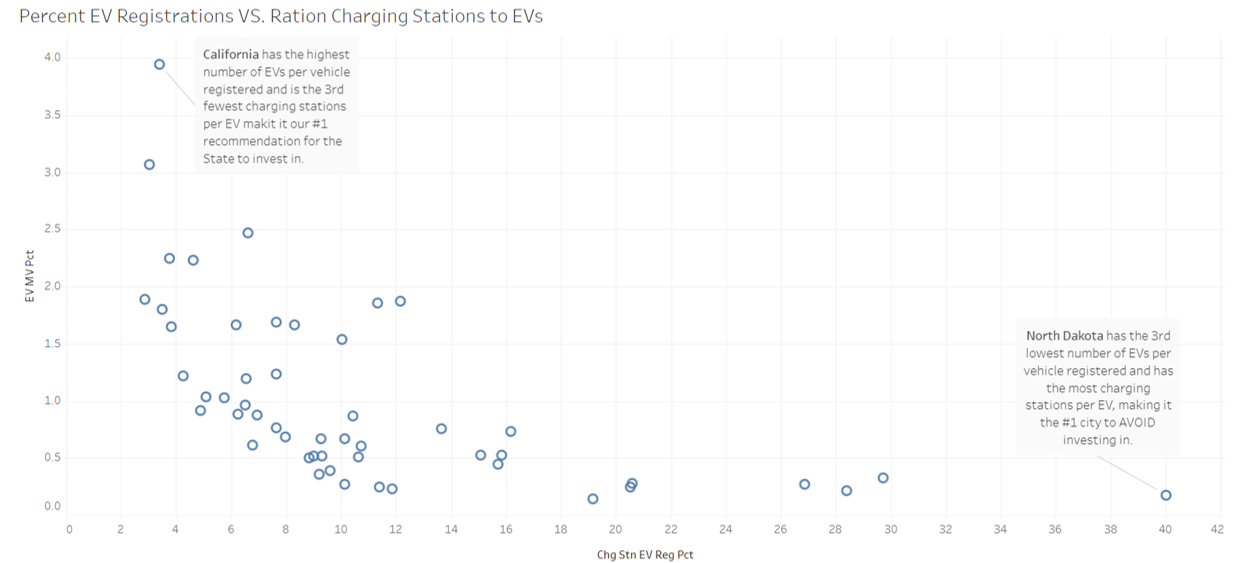

The page's visual inventory and layout, read from the dashboard file:
{"tool":"tableau","page":{"name":"EV Charging Stations in High Demand II","canvas":[1000,1000],"units":"permille","ordinal":0},"visuals":[{"type":"title","box":[5,8.8,990,46.5]},{"type":"worksheet","title":"Percent EV Registrations VS. Ration Charging Stations to EVs","mark":"Automatic","rows":["EV MV Pct"],"cols":["Chg Stn EV Reg Pct"],"box":[5,55.3,990,935.8]}]}

Visuals, with their boxes on the dashboard's canvas, which has no fixed pixel size, in thousandths of its width and height (x1, y1, x2, y2). These are canvas units, not pixel positions in the 1253x563 screenshot, which may show the page scaled, cropped or inside an application window:
title: {"left": 5, "top": 9, "right": 995, "bottom": 55}
"Percent EV Registrations VS. Ration Charging Stations to EVs" worksheet: {"left": 5, "top": 55, "right": 995, "bottom": 991}
